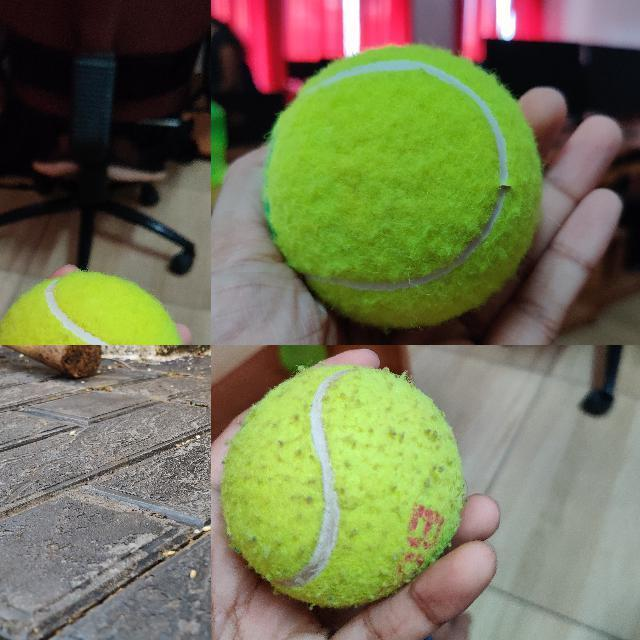tennis-ball: (262, 45, 543, 330), (221, 366, 463, 607), (0, 271, 187, 344)
